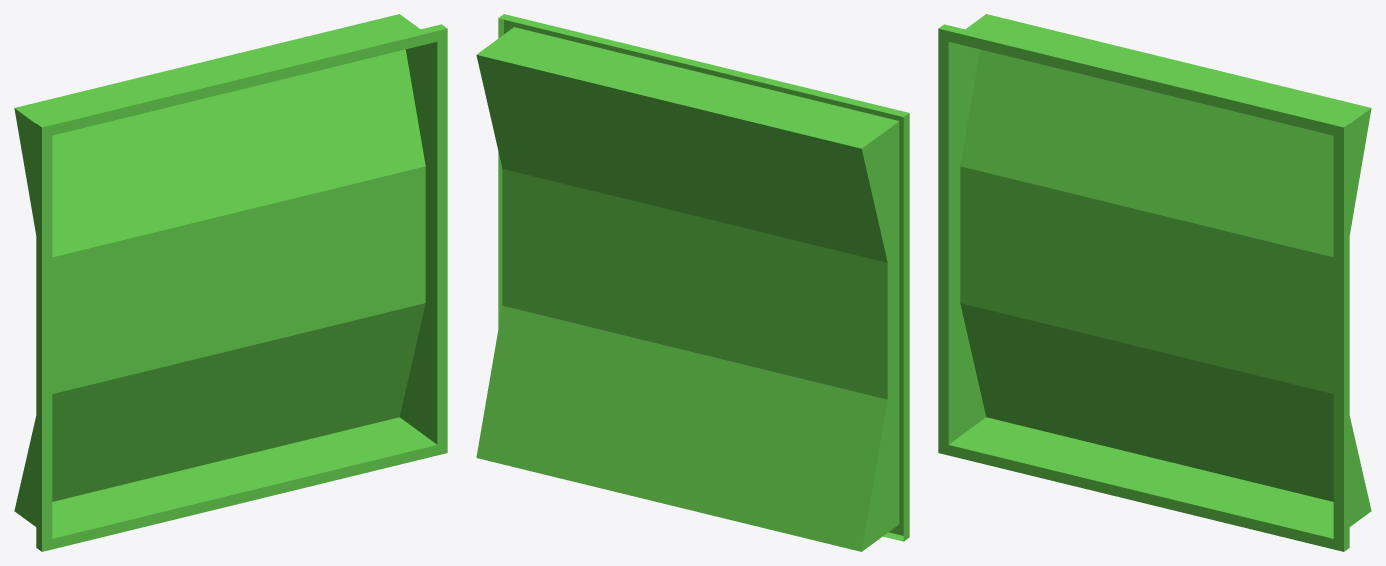
File: Wall_B_4x4m.FBX
The picture shows the model from 3 angles, left to right: view 1: azimuth 30°, elevation 25°; view 2: azimuth 150°, elevation 25°; view 3: azimuth 330°, elevation 25°; orthographic projection.
Parts seen in each view (by area): view 1: Wall_B_4x4m; view 2: Wall_B_4x4m; view 3: Wall_B_4x4m.
Part boxes in pixels (bbox=[...]): Wall_B_4x4m: bbox=[14, 14, 447, 551]; Wall_B_4x4m: bbox=[476, 14, 909, 551]; Wall_B_4x4m: bbox=[938, 14, 1371, 551].
Size of the model in its own units: 400 by 400 by 64.57.
